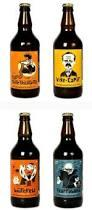Glass bottle: (4, 0, 92, 210)
